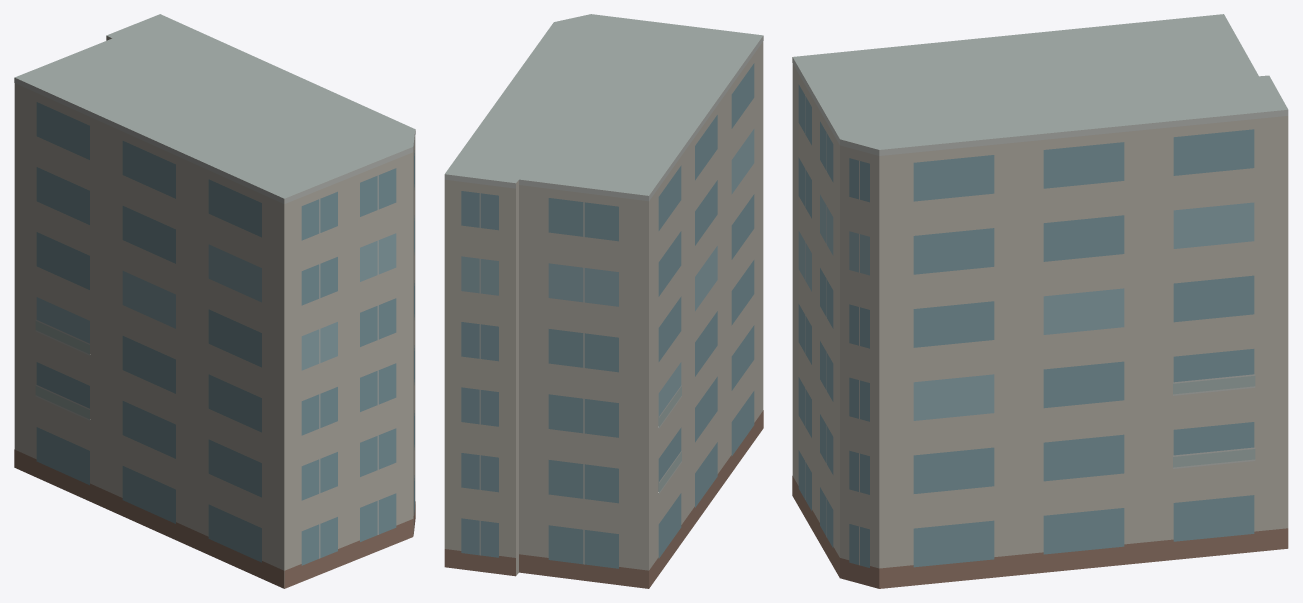
The model's file is survey-upis-32909463.glb.
3 renders of one model, left to right at view 1: azimuth 30°, elevation 25°; view 2: azimuth 150°, elevation 25°; view 3: azimuth 270°, elevation 25°, orthographic. The views are drawn at different scales.
Visible parts, largest first — view 1: survey-upis-32909463.tmp; view 2: survey-upis-32909463.tmp; view 3: survey-upis-32909463.tmp.
Boxes of the visible parts, bbox=[...] form: survey-upis-32909463.tmp: bbox=[14, 14, 415, 588]; survey-upis-32909463.tmp: bbox=[444, 14, 763, 588]; survey-upis-32909463.tmp: bbox=[792, 14, 1288, 588].
Size of the model in its own units: 11.7 by 17.6 by 18.03.
